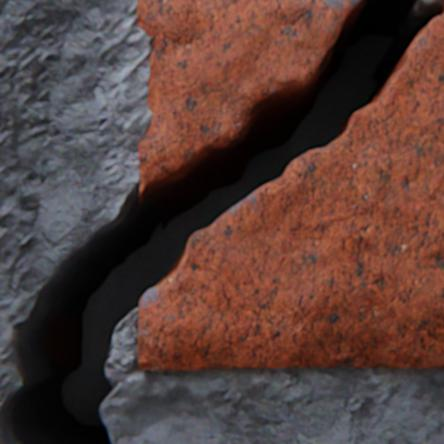broken_brick: (139, 10, 443, 368), (138, 0, 361, 197)
crack: (0, 0, 443, 443)
